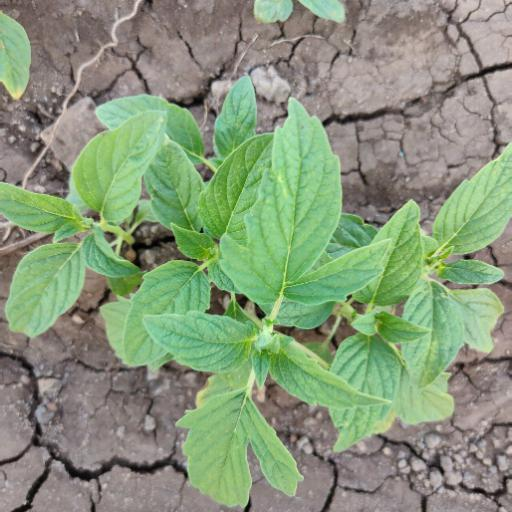crop: (16, 96, 505, 484)
